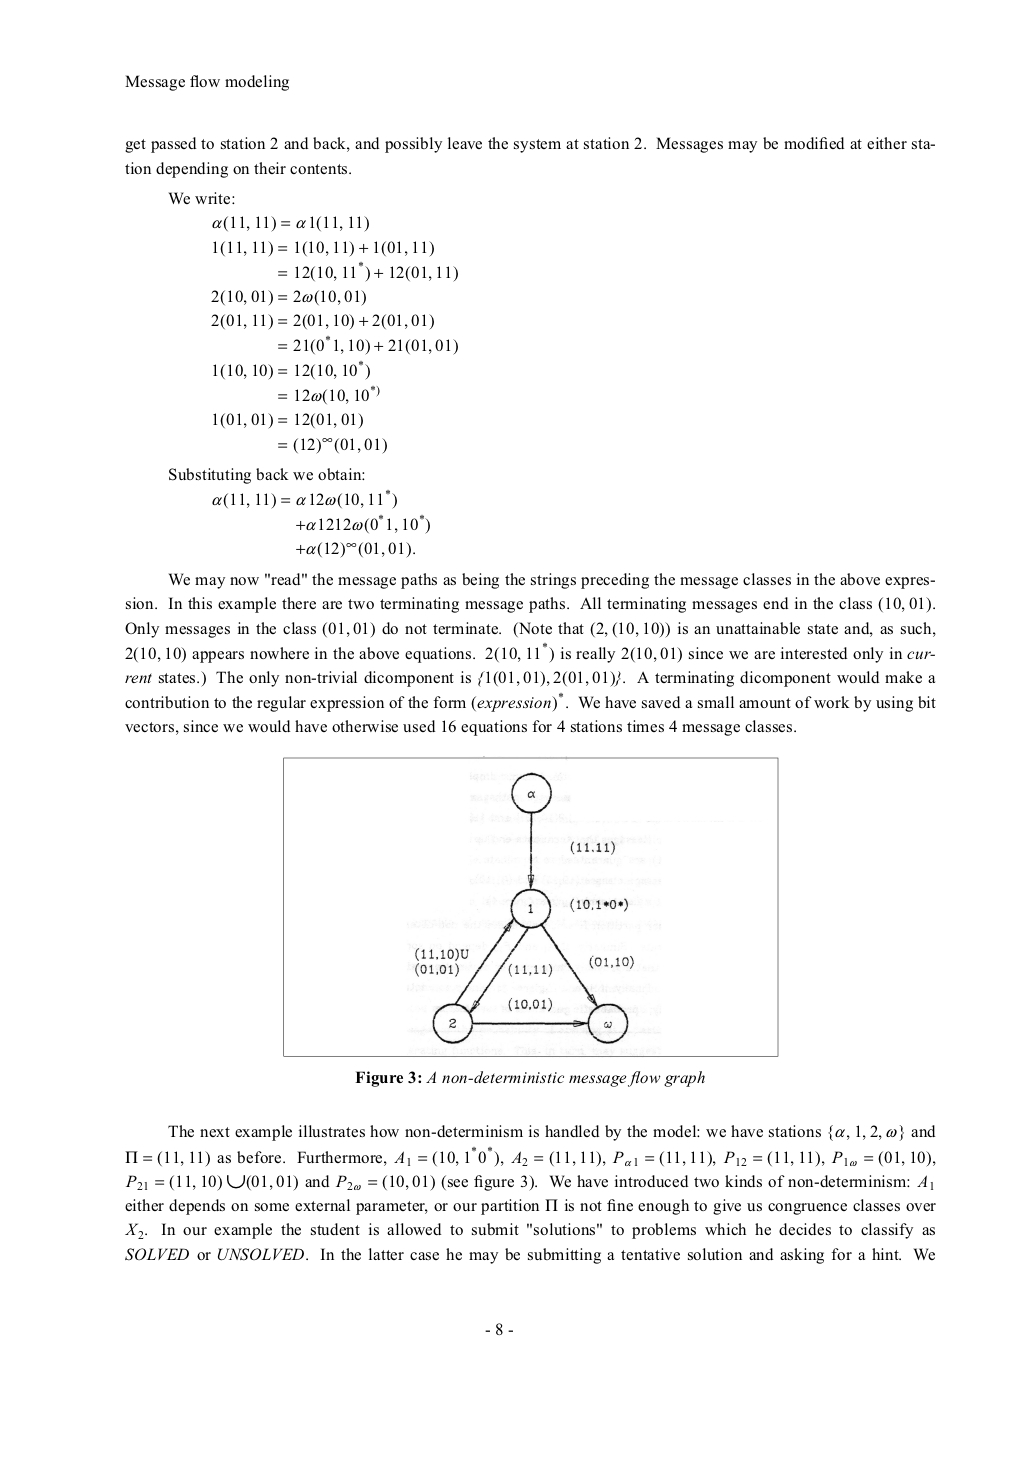figure: (283, 755, 778, 1057)
formula: (278, 260, 457, 282), (211, 312, 433, 330), (212, 487, 396, 509), (278, 334, 457, 355), (213, 240, 433, 257), (213, 359, 369, 380), (296, 513, 428, 534), (213, 412, 362, 429), (212, 215, 368, 232), (211, 289, 365, 306), (278, 384, 379, 405), (296, 541, 414, 558), (278, 437, 386, 454)
